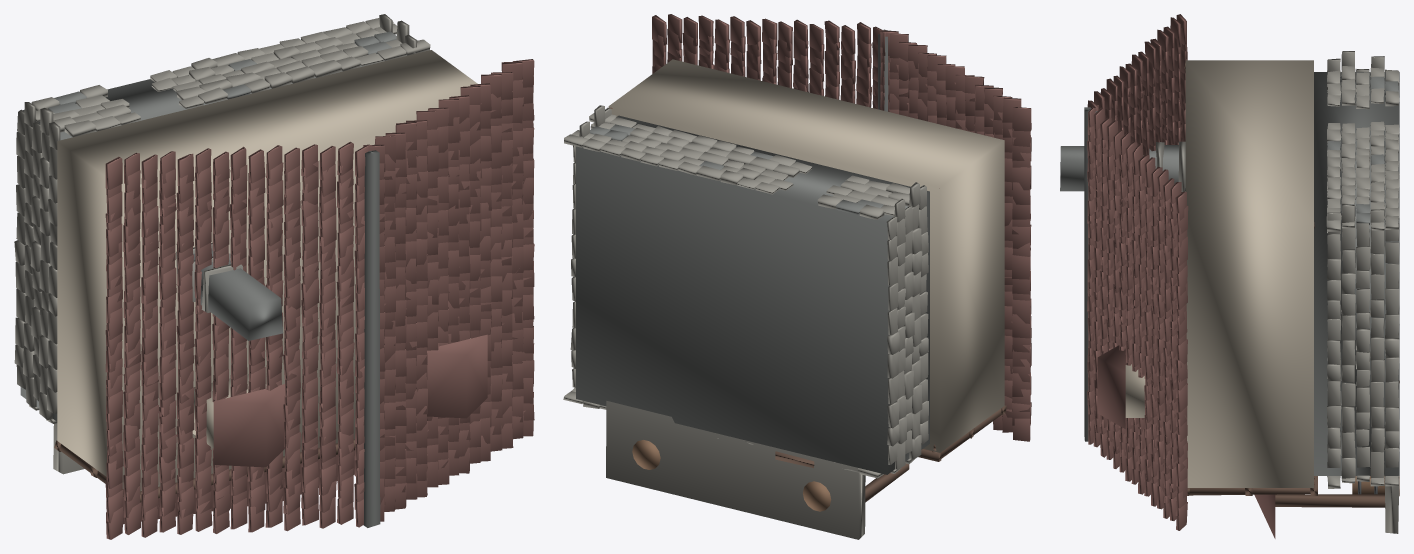
Rendered from inn_hd.glb.
3 renders of one model, left to right at view 1: azimuth 30°, elevation 25°; view 2: azimuth 150°, elevation 25°; view 3: azimuth 270°, elevation 25°, orthographic. The views are drawn at different scales.
Bounding box in the file's own units: 10.24 × 9.62 × 7.94.
